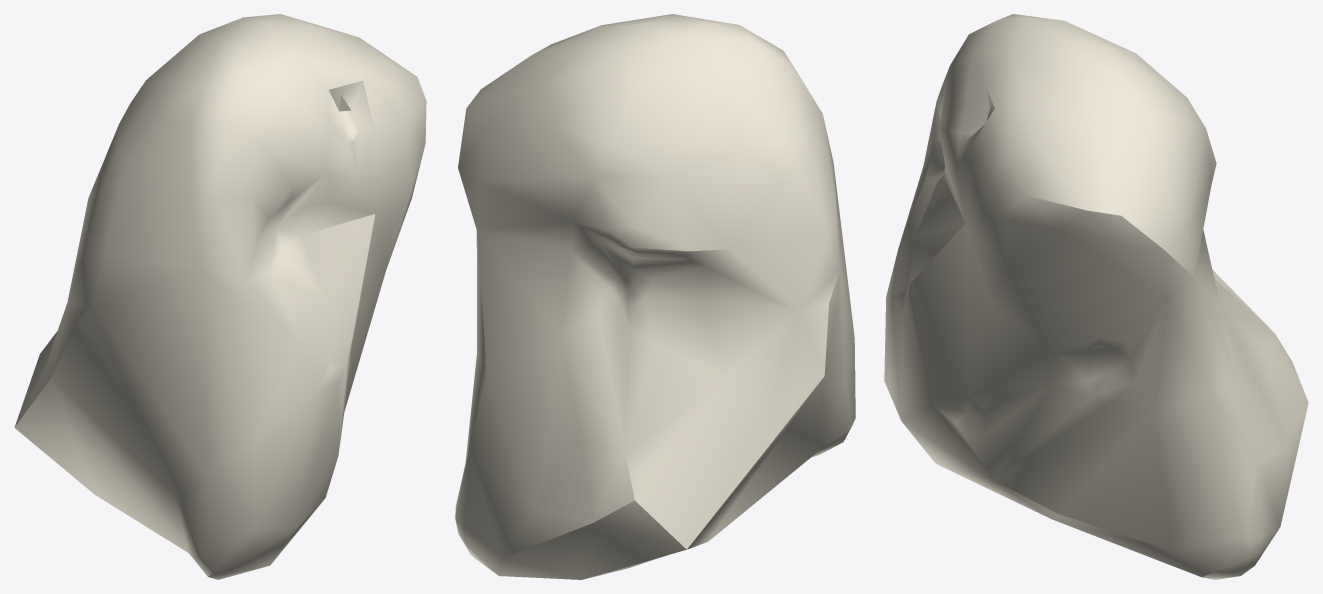
Rendered from fma24446_fj3361.glb.
The picture shows the model from 3 angles, left to right: view 1: azimuth 30°, elevation 25°; view 2: azimuth 150°, elevation 25°; view 3: azimuth 270°, elevation 25°; orthographic projection. The views are drawn at different scales.
Parts seen in each view (by area): view 1: FMA24446_FJ3361; view 2: FMA24446_FJ3361; view 3: FMA24446_FJ3361.
Boxes of the visible parts, x1,y1,x2,y2 form: FMA24446_FJ3361: [14, 14, 426, 579]; FMA24446_FJ3361: [455, 14, 855, 579]; FMA24446_FJ3361: [884, 14, 1308, 579].
Bounding box in the file's own units: 0.0161 × 0.0224 × 0.017.
